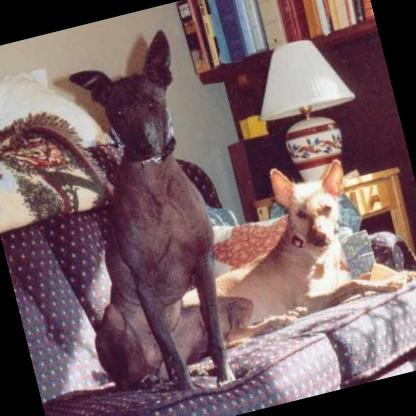Mexican_hairless: (21, 26, 254, 416), (157, 140, 416, 354)
